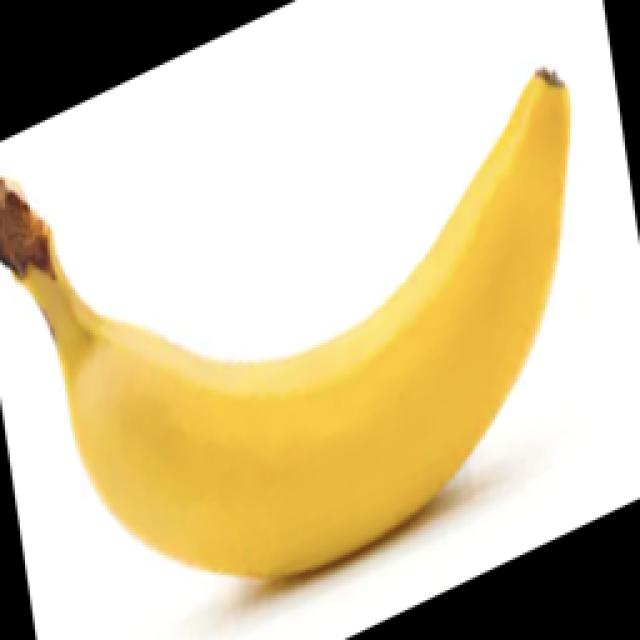Fresh_Banana: (9, 141, 639, 589)
